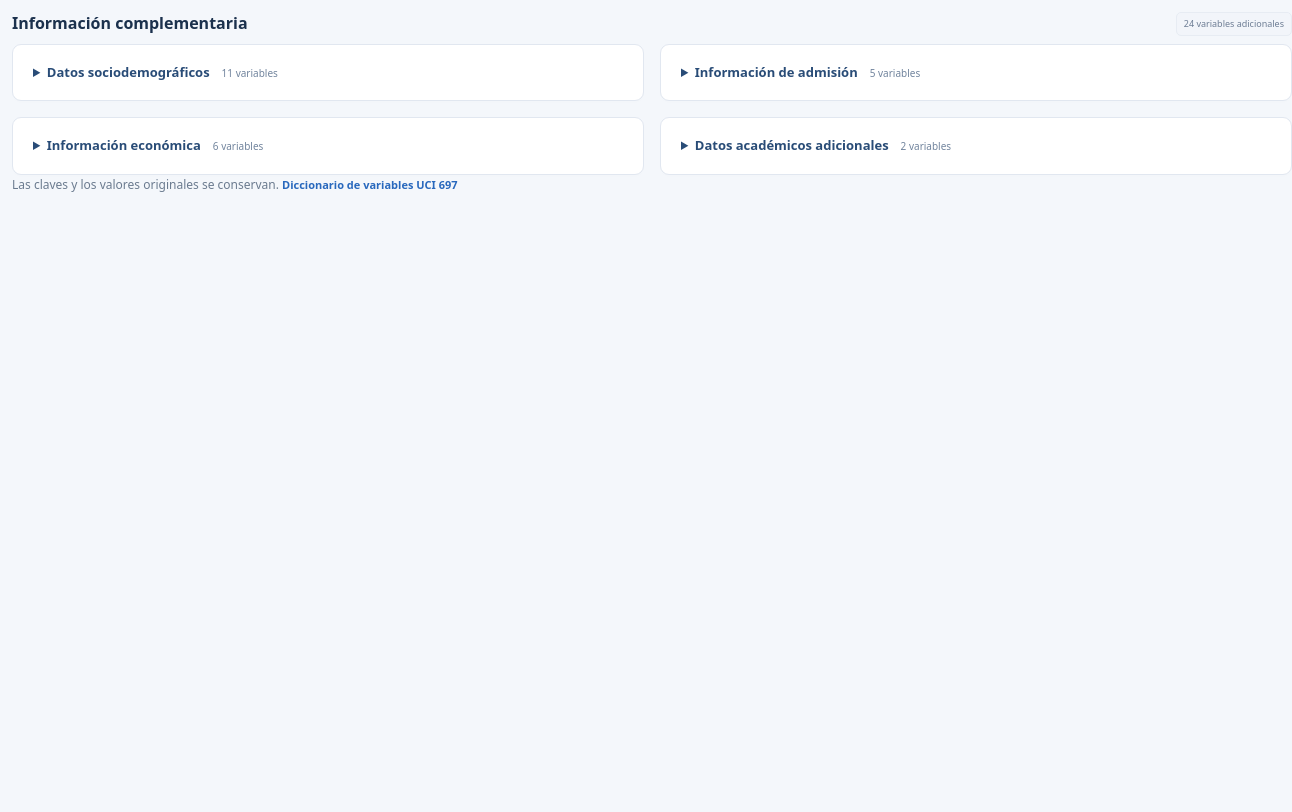
Scenario: notas y atributos académicos › mantiene escalas 0–200 en admisión y calificación previa y muestra el diccionario
This screenshot has width=1292, height=812.
Click the heading "Información de admisión5 variables". click: point(808, 72)
box: [695, 62, 920, 80]
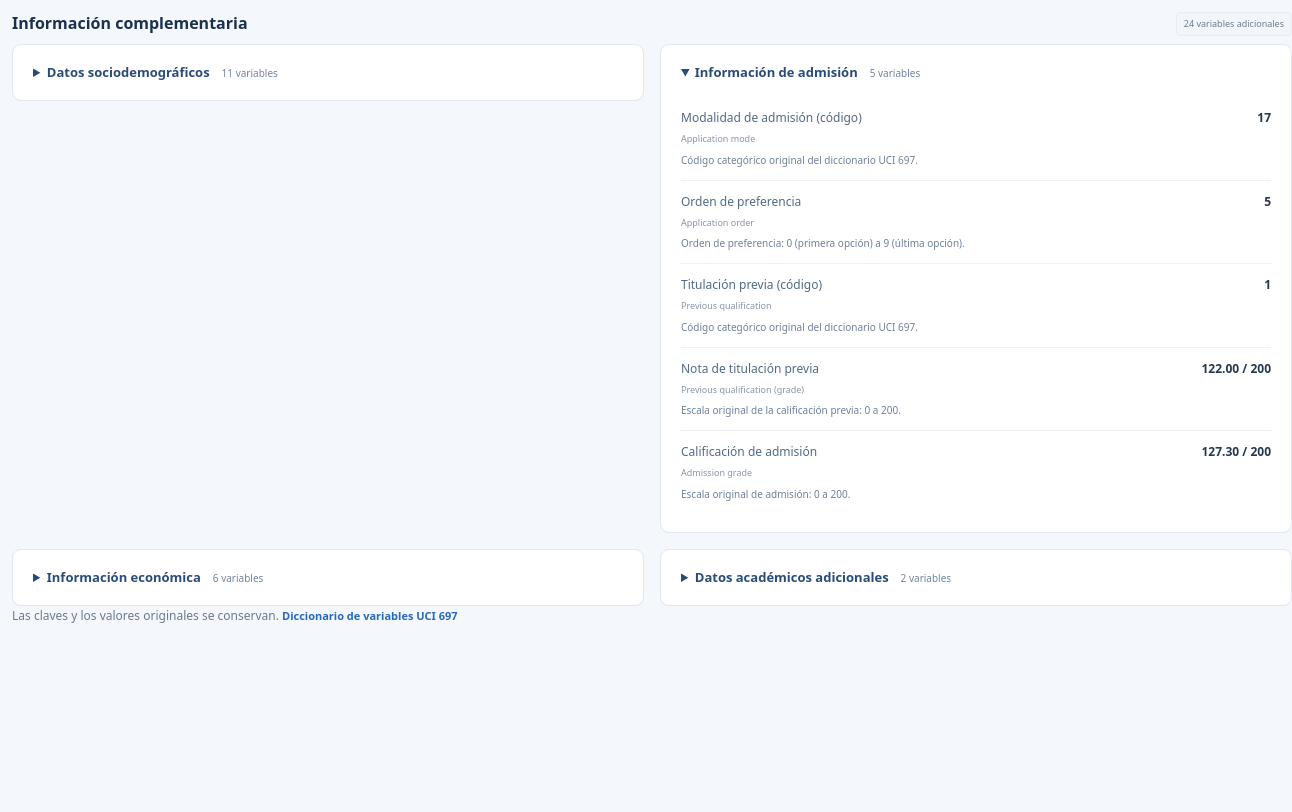
Expected: the text "127.30 / 200" is shown, [1202, 443, 1271, 460]
Expected: the text "122.00 / 200" is shown, [1202, 360, 1271, 376]
Expected: the text "Escala original de admisión: 0 a 200." is shown, [681, 486, 850, 502]
